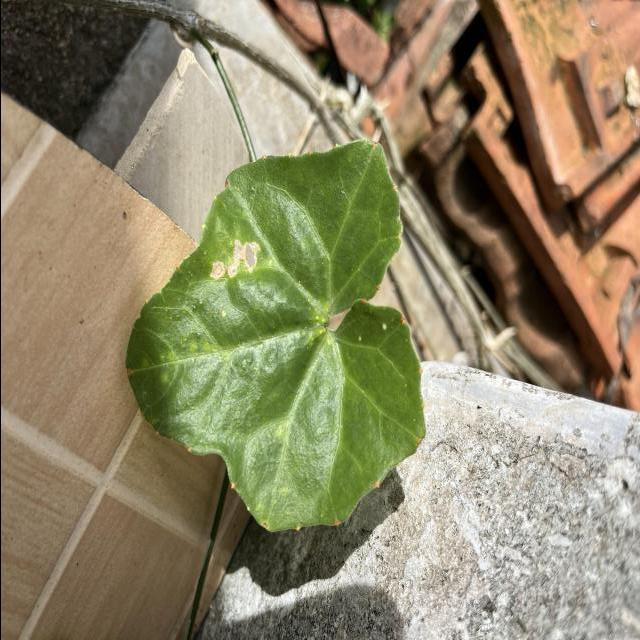Coccinia grandis: (122, 138, 428, 536)
